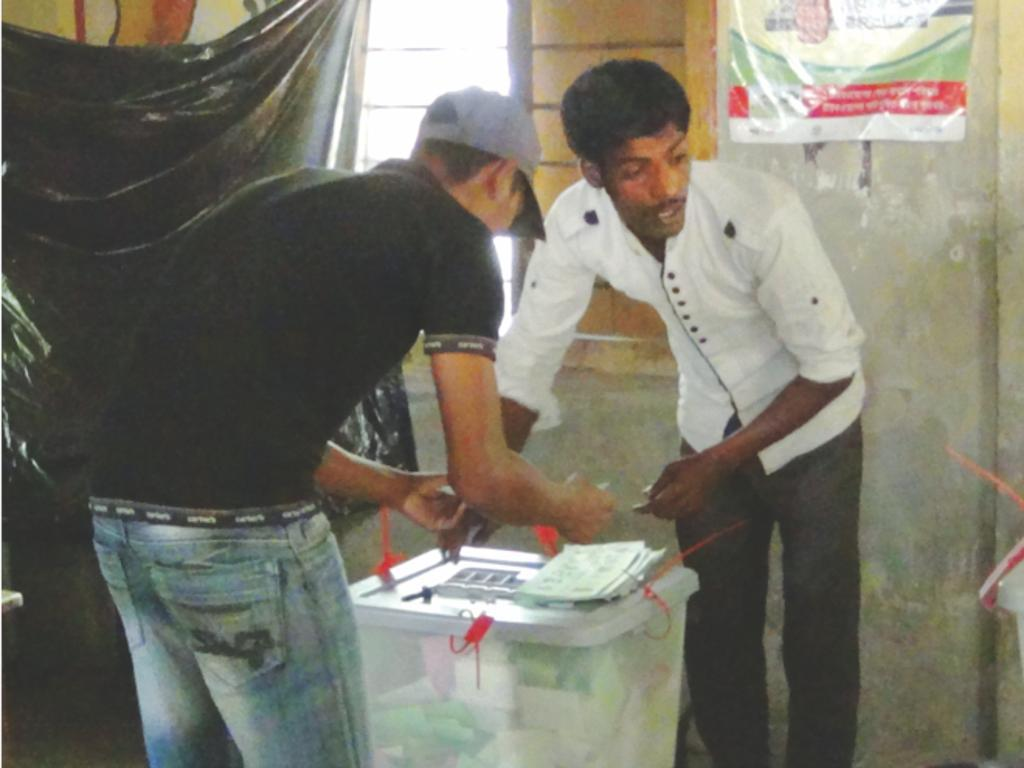face: (611, 123, 689, 241)
